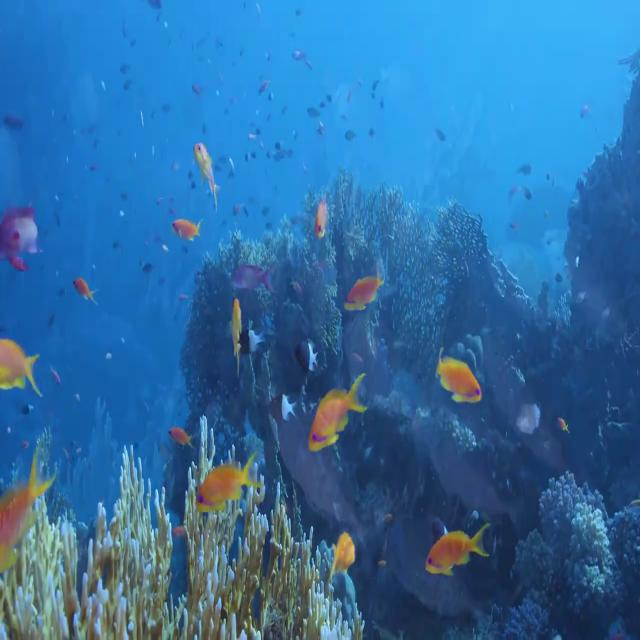fish: (0, 445, 60, 568), (304, 364, 374, 462), (187, 447, 268, 510), (424, 519, 493, 581), (0, 339, 52, 417), (430, 347, 486, 419), (186, 123, 227, 209), (317, 521, 368, 587), (0, 201, 44, 271), (341, 260, 391, 316), (267, 378, 303, 432), (169, 215, 211, 260), (305, 179, 335, 241), (293, 316, 322, 376), (237, 307, 270, 357), (223, 295, 246, 365), (72, 274, 101, 319)
